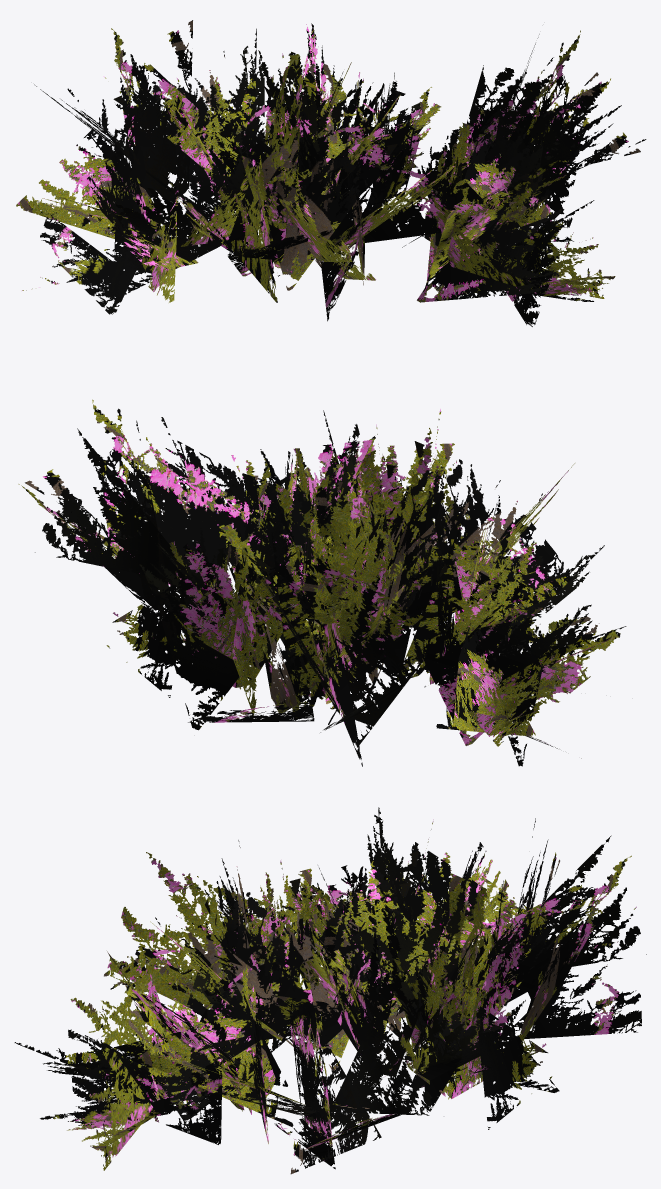
Rendered from heather_clump_01_LOD2.fbx.
3 views of the same model, one above another, from view 1: azimuth 30°, elevation 25°; view 2: azimuth 150°, elevation 25°; view 3: azimuth 270°, elevation 25° (orthographic). The views are drawn at different scales.
Visible parts, largest first — view 1: heather_clump_01_LOD2; view 2: heather_clump_01_LOD2; view 3: heather_clump_01_LOD2.
Boxes of the visible parts, left/top/right/bottom form: heather_clump_01_LOD2: left=16, top=20, right=646, bottom=326; heather_clump_01_LOD2: left=18, top=399, right=626, bottom=766; heather_clump_01_LOD2: left=14, top=807, right=646, bottom=1174.
Size of the model in its own units: 570 by 219 by 499.
